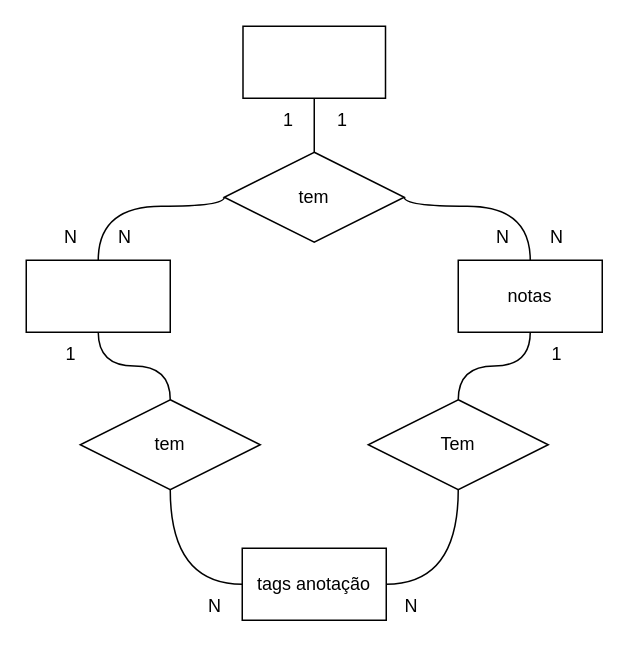
The diagram is 629 pixels wide and 656 high, and some of its shapes have lost their labels. Each missing label, with the centre of its shape:
"tags" goes at point (97, 295).
"Usuario" goes at point (314, 61).
